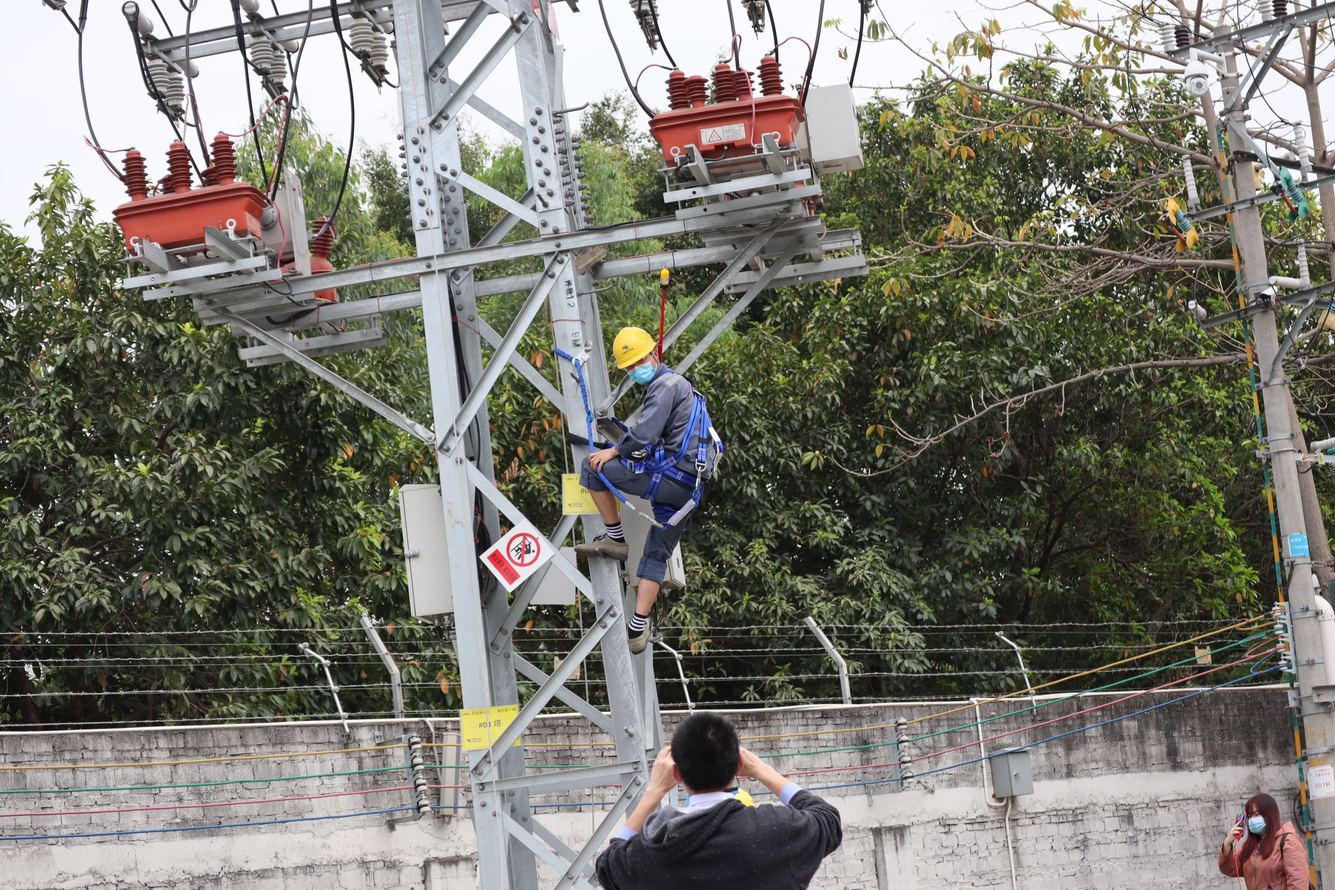绝缘操作杆: (657, 262, 669, 364)
